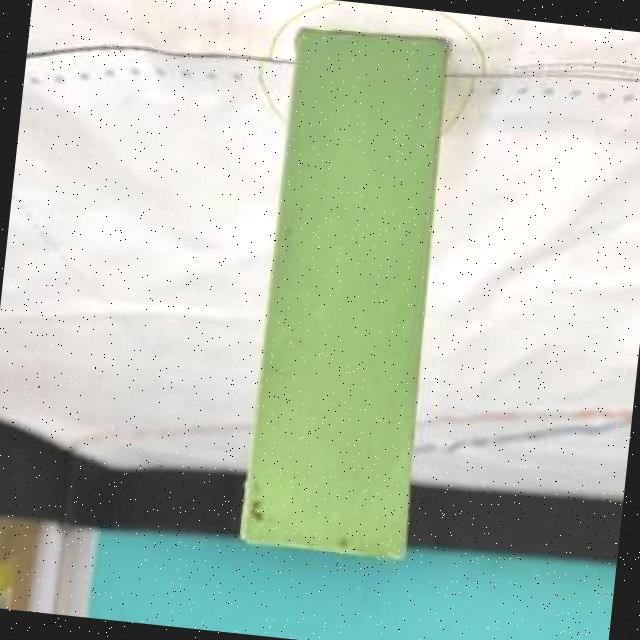greenbox: (243, 23, 452, 560)
